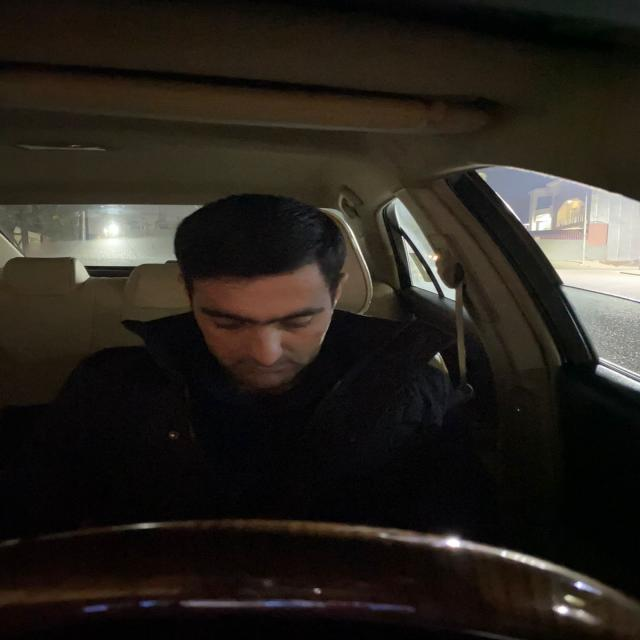drowsy: (168, 210, 354, 392)
